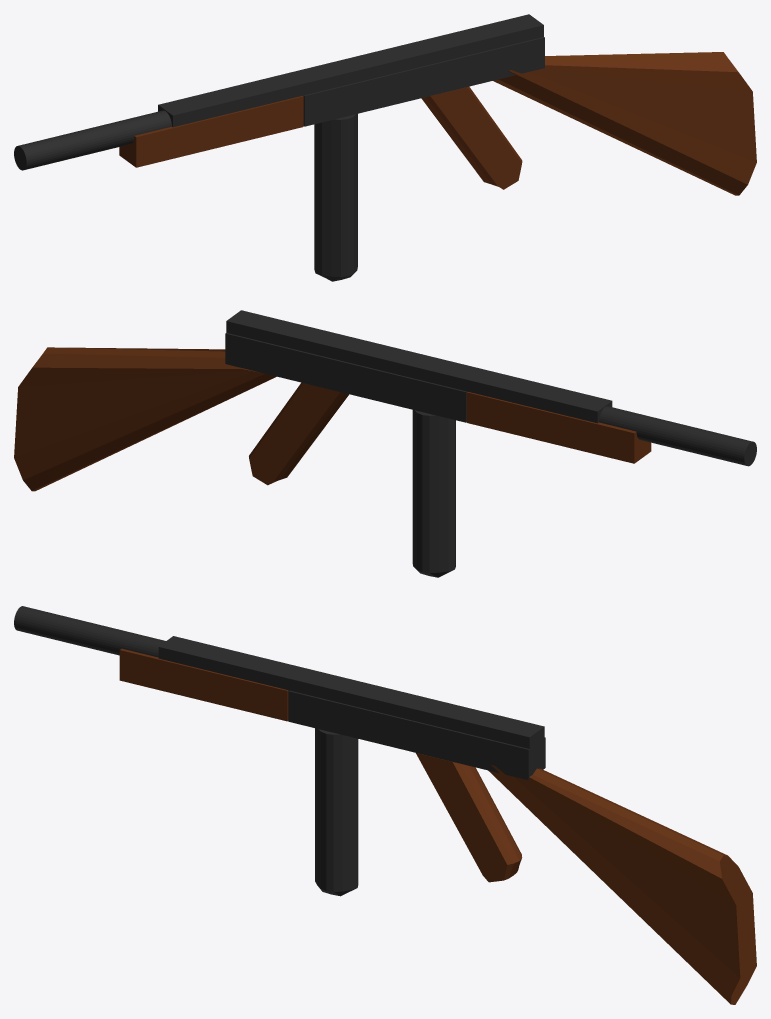
Rendered from Thompson.fbx.
3 renders of one model, top to bottom at view 1: azimuth 30°, elevation 25°; view 2: azimuth 150°, elevation 25°; view 3: azimuth 330°, elevation 25°, orthographic.
Visible parts, largest first — view 1: Hilt, Cube, Cube.001, Cube.002, Cube.003, Cube.004, Barrel.001; view 2: Hilt, Cube, Cube.001, Cube.002, Cube.003, Cube.004, Barrel.001; view 3: Hilt, Cube, Cube.001, Cube.002, Cube.004, Cube.003, Barrel.001.
Boxes of the visible parts, x1=… form: Hilt: x1=493, y1=52, x2=756, y2=195; Cube: x1=158, y1=14, x2=543, y2=127; Cube.001: x1=303, y1=37, x2=544, y2=126; Cube.002: x1=314, y1=114, x2=357, y2=281; Cube.003: x1=119, y1=95, x2=303, y2=167; Cube.004: x1=421, y1=86, x2=522, y2=189; Barrel.001: x1=14, y1=110, x2=171, y2=170; Hilt: x1=14, y1=347, x2=276, y2=491; Cube: x1=226, y1=310, x2=612, y2=423; Cube.001: x1=225, y1=333, x2=466, y2=422; Cube.002: x1=412, y1=410, x2=455, y2=577; Cube.003: x1=466, y1=392, x2=651, y2=463; Cube.004: x1=249, y1=382, x2=348, y2=485; Barrel.001: x1=599, y1=406, x2=756, y2=466; Hilt: x1=488, y1=765, x2=756, y2=1004; Cube: x1=158, y1=636, x2=544, y2=763; Cube.001: x1=288, y1=690, x2=545, y2=780; Cube.002: x1=315, y1=728, x2=358, y2=896; Cube.004: x1=416, y1=753, x2=522, y2=882; Cube.003: x1=119, y1=648, x2=288, y2=721; Barrel.001: x1=14, y1=606, x2=165, y2=657.
Size of the model in its own units: 550 by 162 by 29.1.
